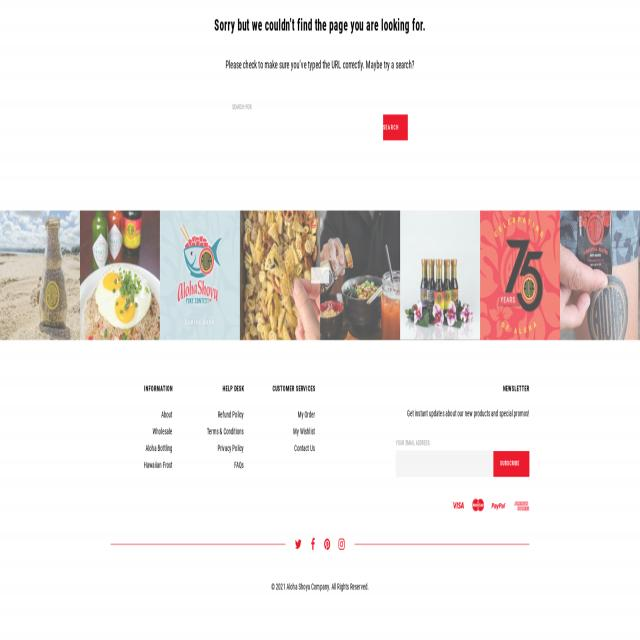button: (0, 210, 80, 340), (80, 210, 160, 340), (160, 210, 240, 340), (560, 210, 640, 340), (240, 211, 320, 340), (320, 211, 400, 340), (480, 211, 560, 340), (400, 211, 480, 340), (452, 498, 530, 513), (493, 451, 529, 477), (383, 115, 408, 141), (321, 534, 333, 554), (292, 535, 304, 554), (336, 534, 347, 554), (308, 535, 318, 554)
field: (232, 114, 379, 140), (396, 451, 493, 476)
